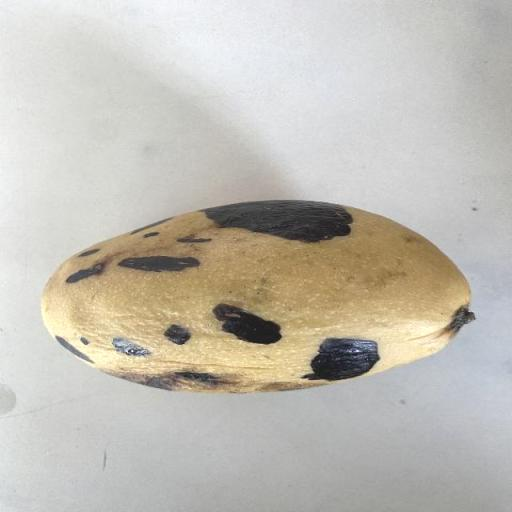mango-overripe: (7, 187, 493, 420)
